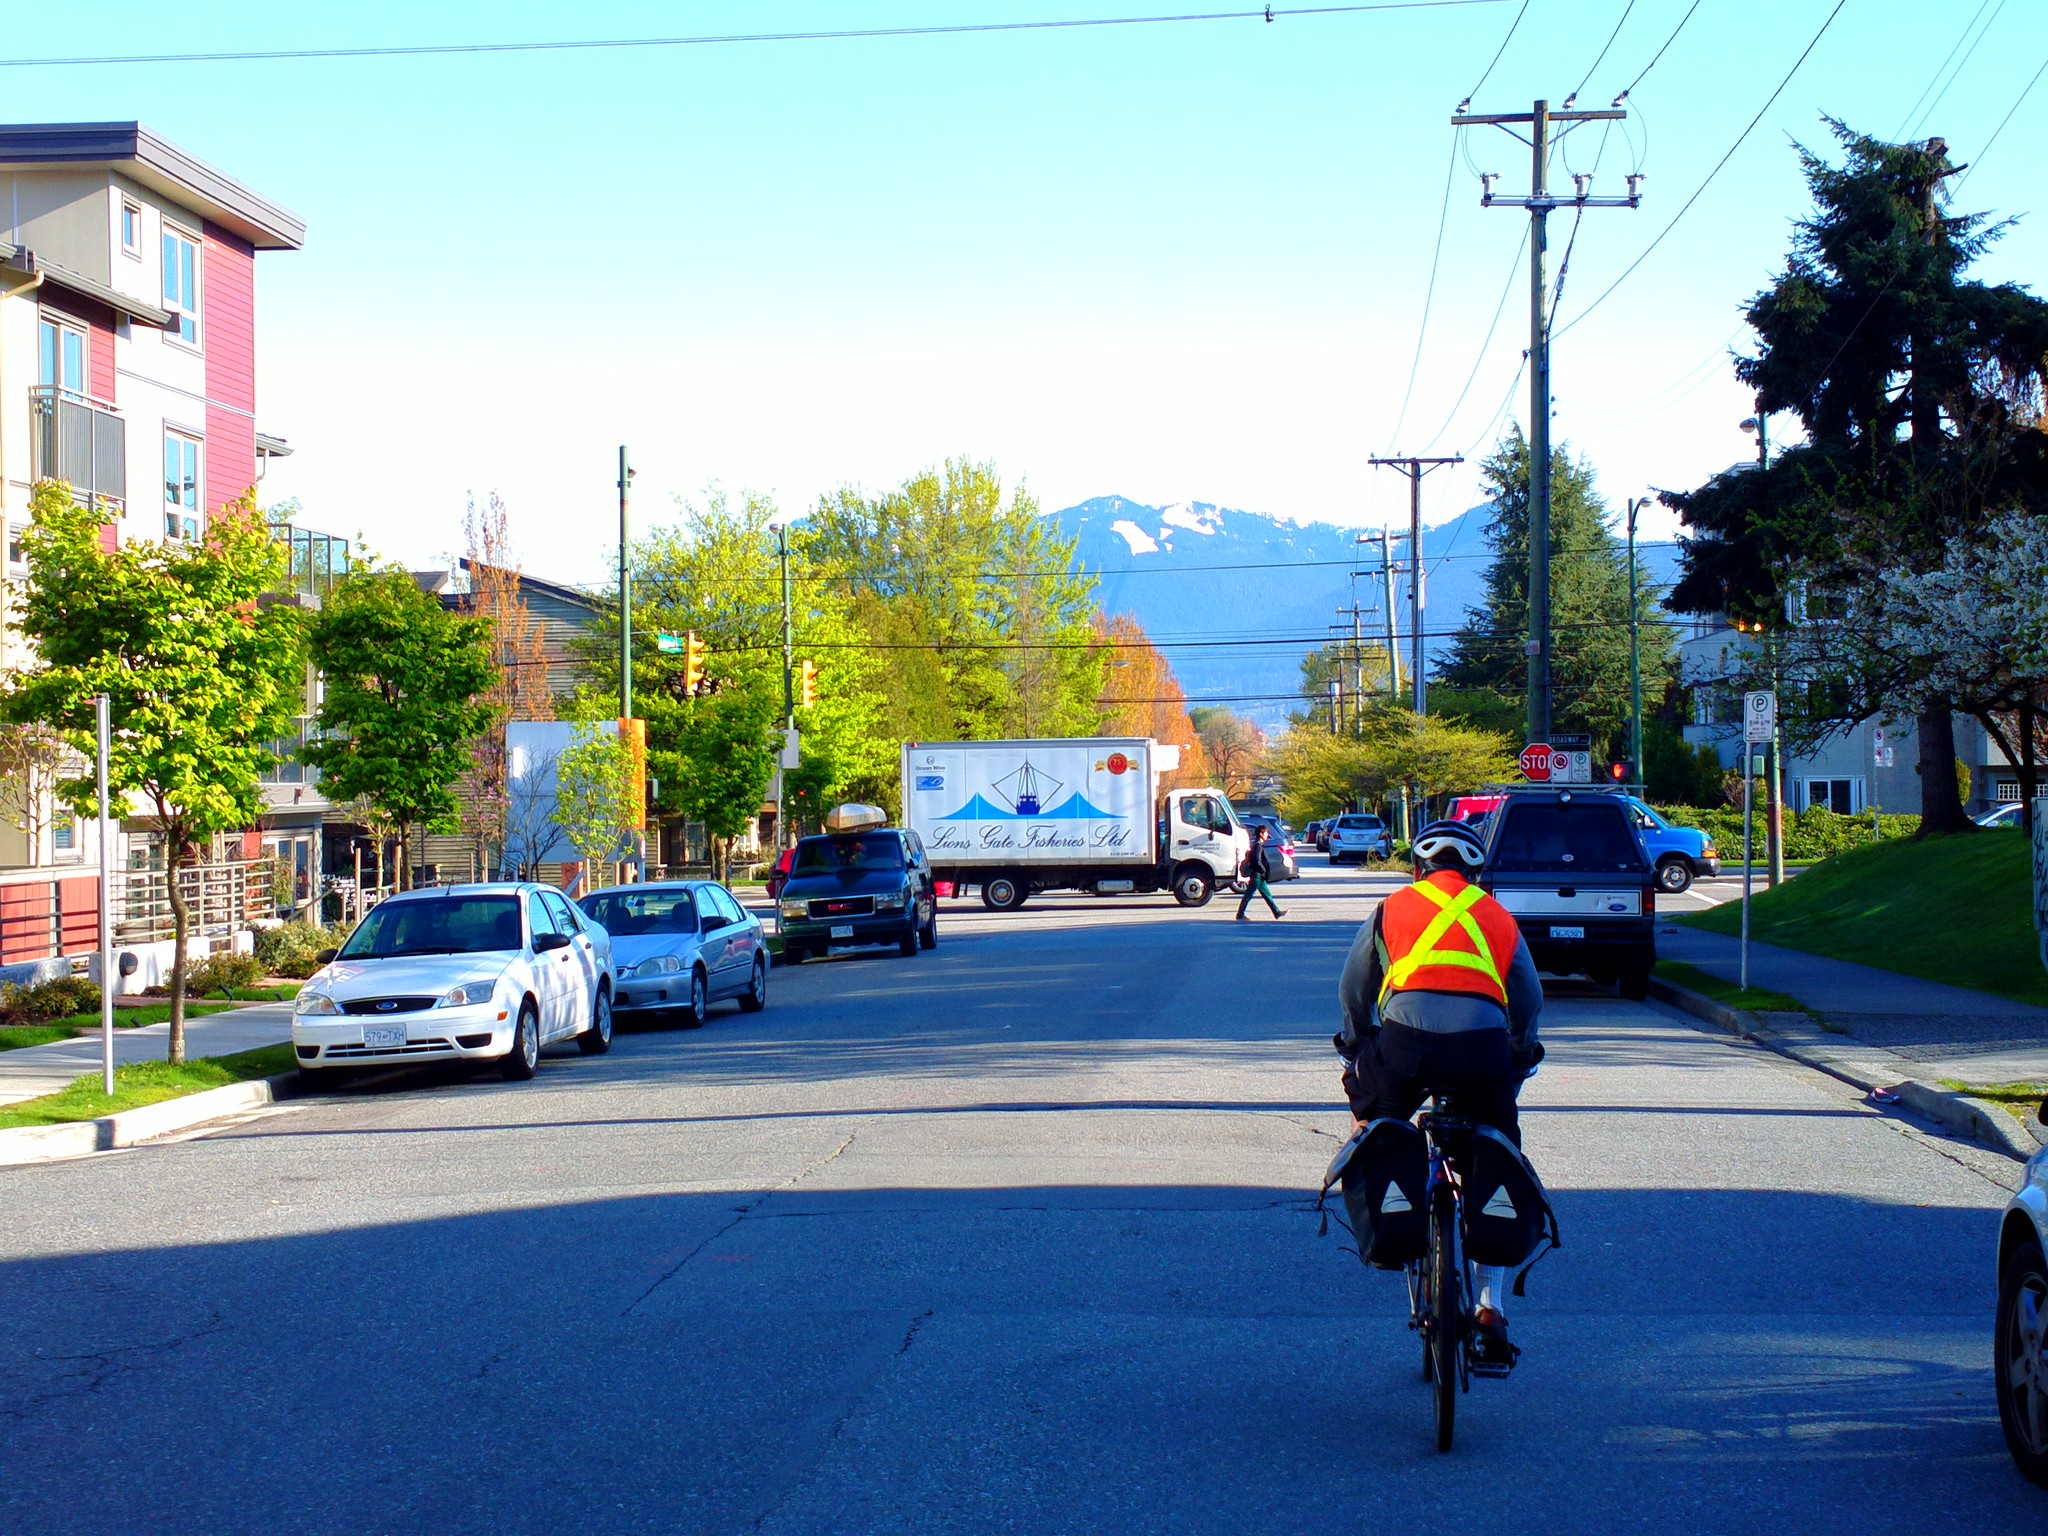Reflective vest: (1364, 865, 1530, 1018)
